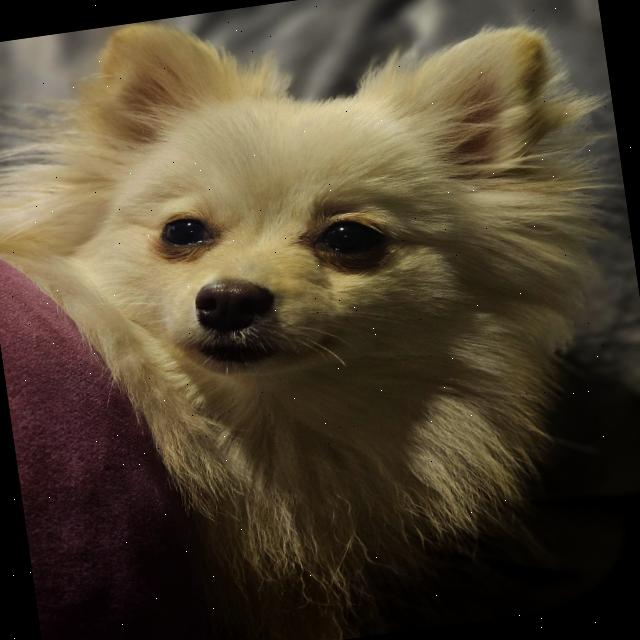pomeranian_dog: (38, 0, 621, 429)
